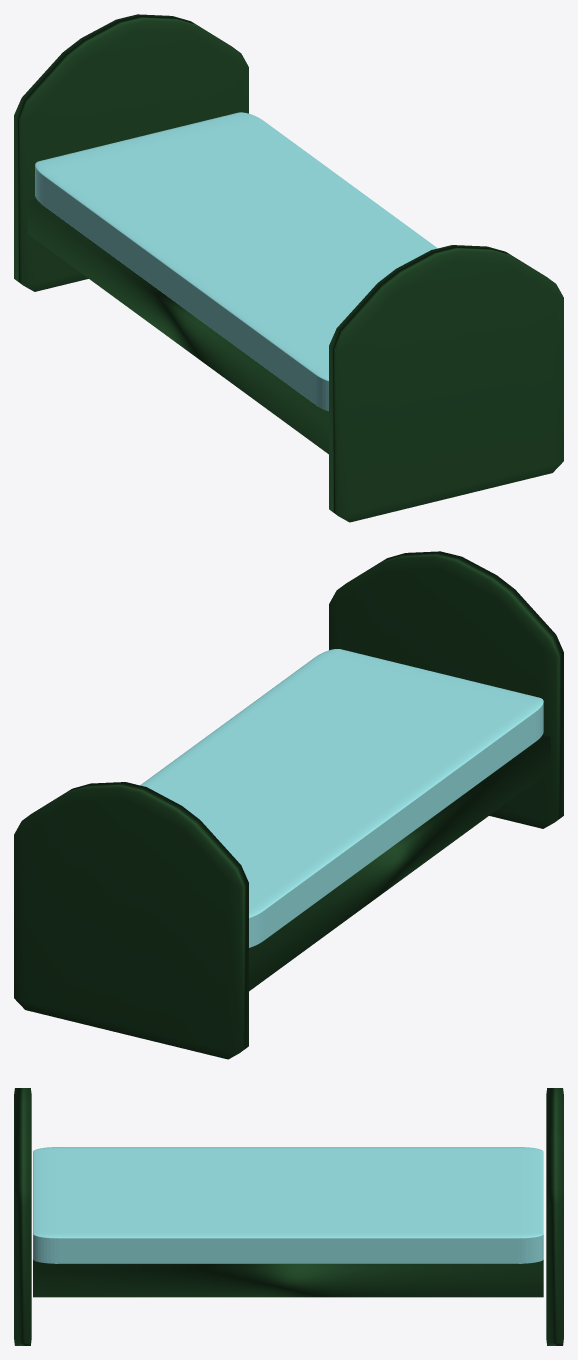
Rendered from bed.glb.
3 views of the same model, one above another, from view 1: azimuth 30°, elevation 25°; view 2: azimuth 150°, elevation 25°; view 3: azimuth 270°, elevation 25° (orthographic). The views are drawn at different scales.
Parts seen in each view (by area): view 1: Cube.005, matras; view 2: Cube.005, matras; view 3: matras, Cube.005.
Part boxes in pixels (box(x1,y1,x2,y2)): Cube.005: box(14, 14, 563, 522); matras: box(35, 112, 437, 411); Cube.005: box(14, 551, 563, 1059); matras: box(140, 649, 543, 947); matras: box(33, 1147, 543, 1263); Cube.005: box(14, 1088, 563, 1345).
Size of the model in its own units: 0.796 by 0.8206 by 1.99.
